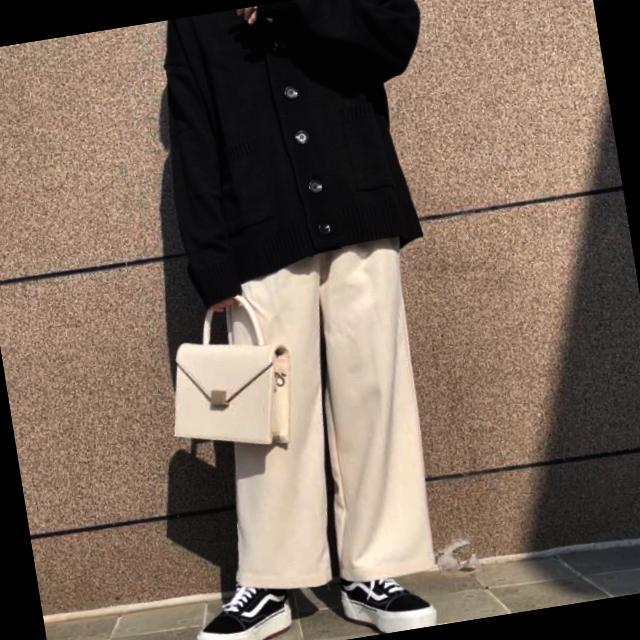cardigan: (142, 0, 461, 308)
slacks: (185, 222, 455, 610)
